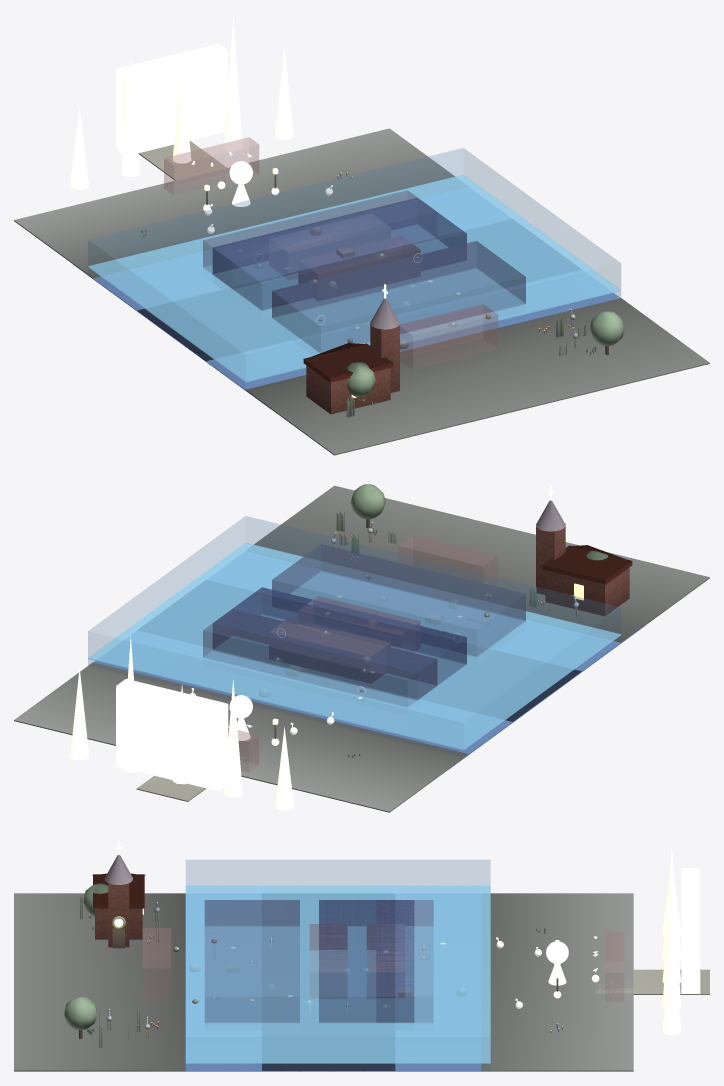
File: river_of_death.glb
The picture shows the model from 3 angles, top to bottom: view 1: azimuth 30°, elevation 25°; view 2: azimuth 150°, elevation 25°; view 3: azimuth 270°, elevation 25°; orthographic projection. The views are drawn at different scales.
Visible parts, largest first — view 1: COL_RiverWater, ENV_River_WaterSurface, ENV_River_NearBank, ENV_River_FarBank, ENV_River_WaterPlane, COL_RiverFearZone, COL_RiverDeepZone, ENV_River_DeepChannel, PROP_DistantCelestialGate, COL_RiverMemoryPromptZone, VIS_PROP_Chapel (×3), TRIGGER_EnterRiver (+10 smaller); view 2: COL_RiverWater, ENV_River_WaterSurface, ENV_River_NearBank, ENV_River_FarBank, ENV_River_DeepChannel, ENV_River_WaterPlane, COL_RiverDeepZone, COL_RiverFearZone, COL_RiverMemoryPromptZone, PROP_DistantCelestialGate, VIS_PROP_Chapel (×4), TRIGGER_EnterRiver (+8 smaller); view 3: COL_RiverWater, ENV_River_WaterSurface, ENV_River_NearBank, ENV_River_FarBank, ENV_River_WaterPlane, COL_RiverFearZone, COL_RiverDeepZone, ENV_River_DeepChannel, COL_RiverMemoryPromptZone, VIS_PROP_Chapel (×4), PROP_DistantCelestialGate, TRIGGER_EnterRiver (+10 smaller).
Boxes of the visible parts, x1,y1,x2,y2 form: COL_RiverWater: [88, 148, 620, 388]; ENV_River_WaterSurface: [88, 175, 621, 382]; ENV_River_NearBank: [246, 298, 709, 455]; ENV_River_FarBank: [14, 128, 466, 278]; ENV_River_WaterPlane: [73, 187, 619, 408]; COL_RiverFearZone: [272, 241, 525, 352]; COL_RiverDeepZone: [212, 198, 466, 310]; ENV_River_DeepChannel: [137, 219, 580, 361]; PROP_DistantCelestialGate: [116, 44, 228, 153]; COL_RiverMemoryPromptZone: [203, 190, 435, 273]; VIS_PROP_Chapel (×3): [303, 321, 399, 414]; TRIGGER_EnterRiver: [400, 304, 497, 369]; COL_RiverWater: [88, 516, 620, 756]; ENV_River_WaterSurface: [88, 543, 621, 750]; ENV_River_NearBank: [254, 485, 709, 642]; ENV_River_FarBank: [14, 662, 468, 812]; ENV_River_DeepChannel: [139, 580, 581, 721]; ENV_River_WaterPlane: [93, 551, 645, 769]; COL_RiverDeepZone: [213, 587, 466, 699]; COL_RiverFearZone: [272, 544, 525, 656]; COL_RiverMemoryPromptZone: [203, 609, 436, 706]; PROP_DistantCelestialGate: [116, 679, 228, 790]; VIS_PROP_Chapel (×4): [536, 500, 632, 616]; TRIGGER_EnterRiver: [398, 535, 497, 586]; COL_RiverWater: [186, 860, 490, 1070]; ENV_River_WaterSurface: [185, 885, 490, 1063]; ENV_River_NearBank: [14, 893, 185, 1071]; ENV_River_FarBank: [481, 893, 633, 1071]; ENV_River_WaterPlane: [139, 894, 519, 1071]; COL_RiverFearZone: [204, 900, 299, 1022]; COL_RiverDeepZone: [319, 900, 414, 1022]; ENV_River_DeepChannel: [262, 894, 395, 1071]; COL_RiverMemoryPromptZone: [376, 900, 433, 1022]; VIS_PROP_Chapel (×4): [93, 855, 144, 947]; PROP_DistantCelestialGate: [681, 868, 700, 993]; TRIGGER_EnterRiver: [143, 928, 170, 1001].
Bounding box in the file's own units: 44 × 15.5 × 73.
Materials: 68 (2 with a texture image).
